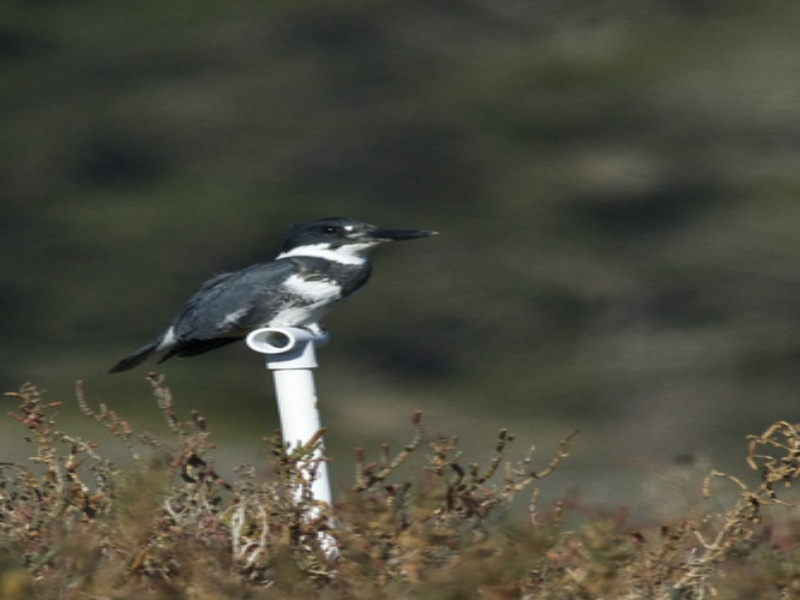kingfisher: (109, 216, 440, 378)
